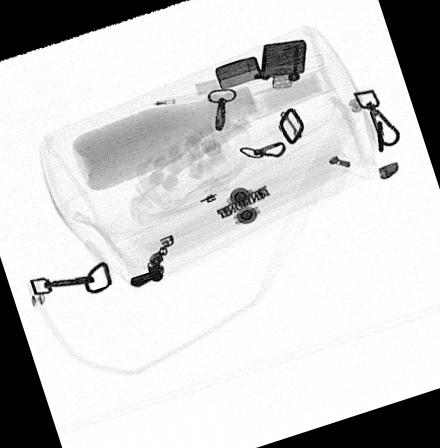Lighter: (213, 38, 306, 89)
